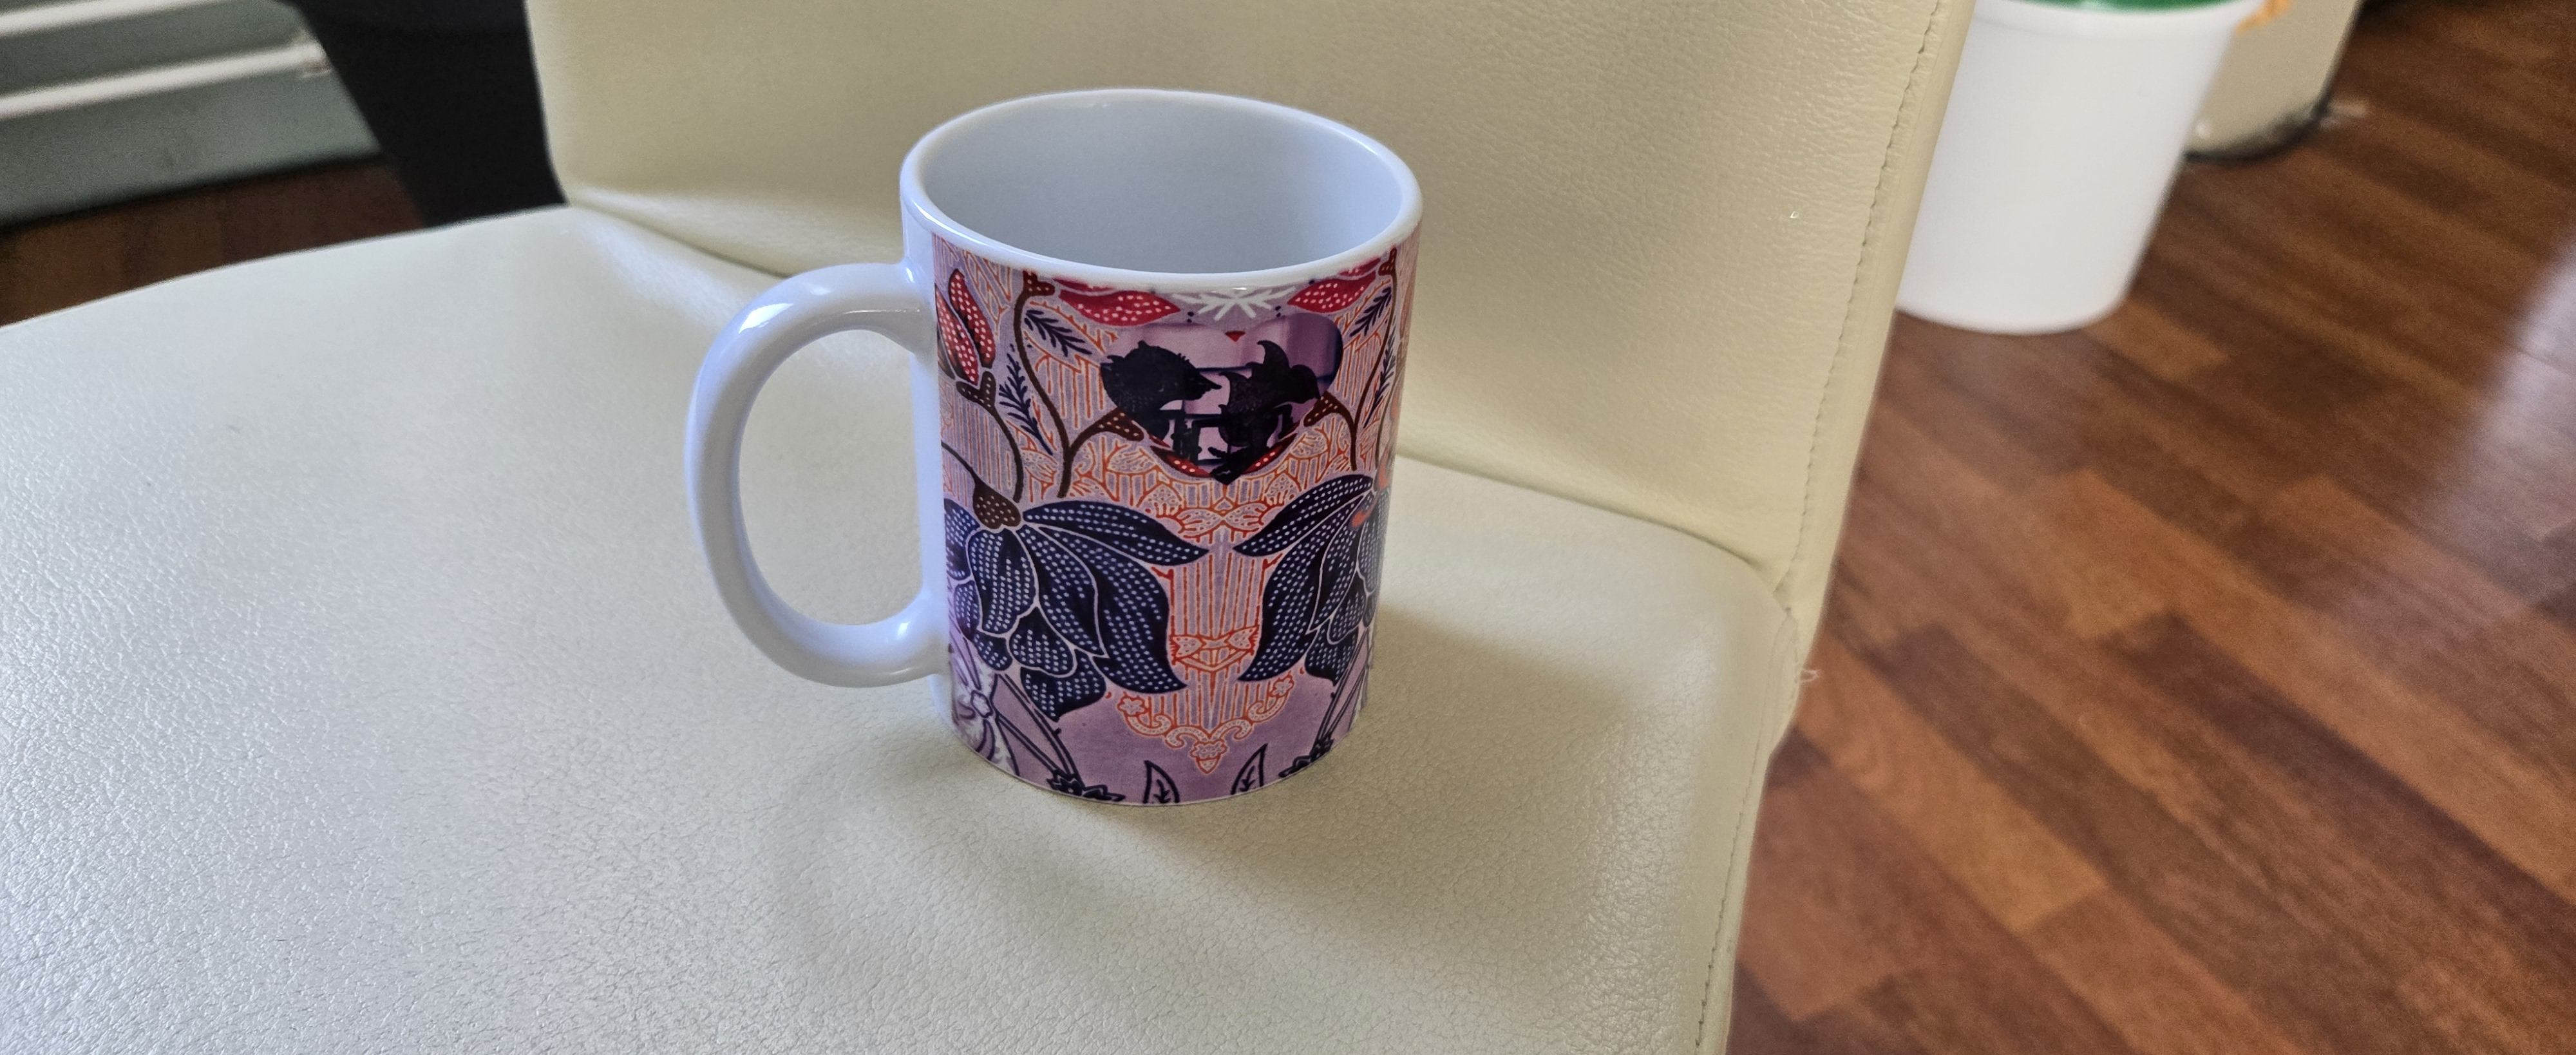mok: (670, 48, 1459, 845)
